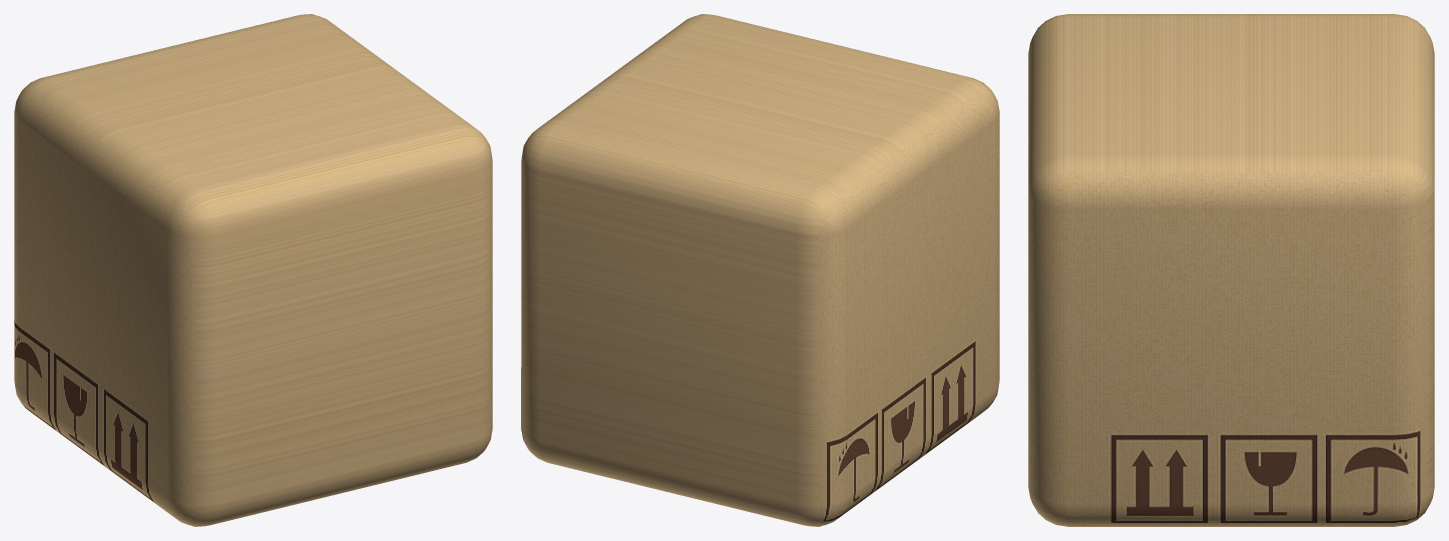
The picture shows the model from 3 angles, left to right: view 1: azimuth 30°, elevation 25°; view 2: azimuth 150°, elevation 25°; view 3: azimuth 270°, elevation 25°; orthographic projection. The views are drawn at different scales.
Visible parts, largest first — view 1: Box; view 2: Box; view 3: Box.
Part boxes in pixels (x1,y1,x2,y2): Box: [14, 14, 492, 526]; Box: [521, 14, 999, 526]; Box: [1028, 14, 1434, 526].
Size of the model in its own units: 100 by 100 by 100.
1 material, 1 textured.
